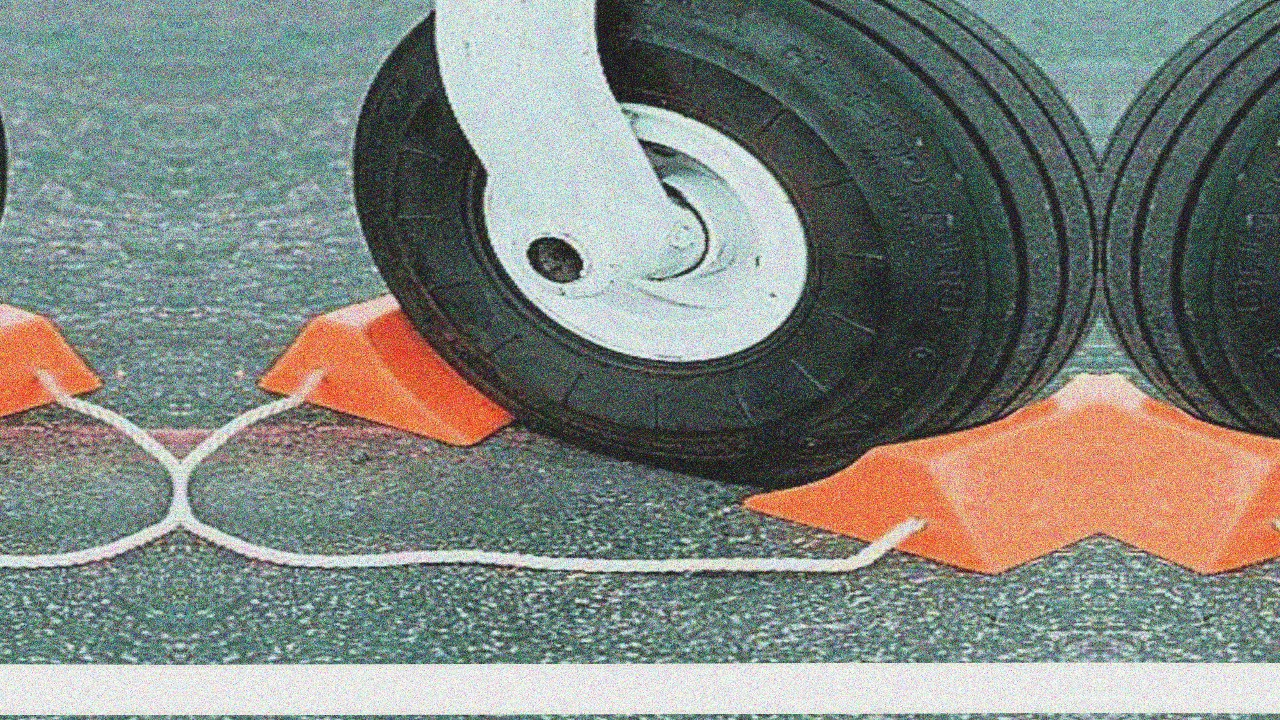chock: (745, 374, 1100, 575), (253, 282, 596, 448), (1100, 374, 1280, 575), (0, 282, 107, 448)
wheel: (343, 0, 1100, 493), (1100, 0, 1280, 493)
